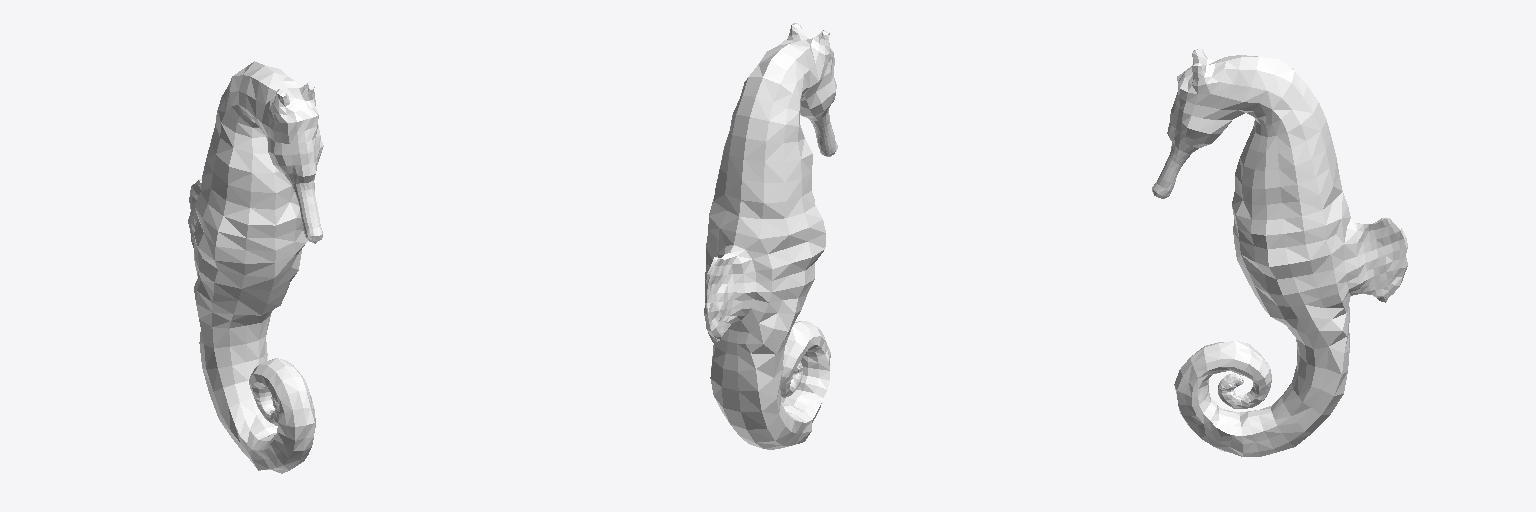
Rendered from Seahorse.Obj.
The picture shows the model from 3 angles: view 1: azimuth 30°, elevation 25°; view 2: azimuth 150°, elevation 25°; view 3: azimuth 270°, elevation 25°; orthographic projection.
Parts seen in each view (by area): view 1: RetopoGroup1; view 2: RetopoGroup1; view 3: RetopoGroup1.
Boxes of the visible parts, <box> form: RetopoGroup1: <box>188,61,323,473</box>; RetopoGroup1: <box>704,23,837,449</box>; RetopoGroup1: <box>1152,49,1407,456</box>.
Size of the model in its own units: 56.34 by 210 by 122.